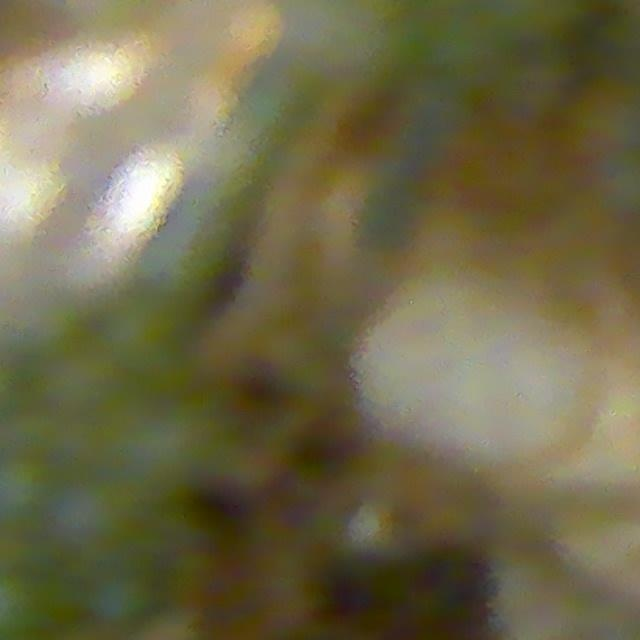SeaGrape: (89, 567, 156, 629)
